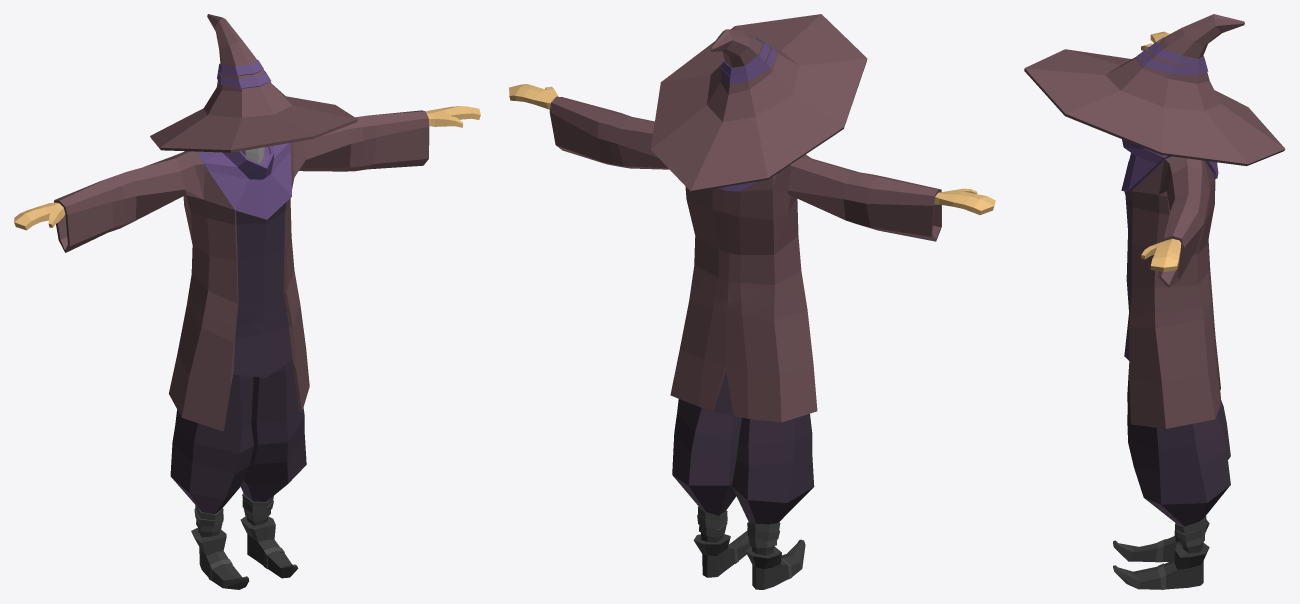
File: Wizard.obj
3 renders of one model, left to right at view 1: azimuth 30°, elevation 25°; view 2: azimuth 150°, elevation 25°; view 3: azimuth 270°, elevation 25°, orthographic. The views are drawn at different scales.
Parts seen in each view (by area): view 1: obj1; view 2: obj1; view 3: obj1.
Part boxes in pixels (left/top/right/bottom): obj1: left=14, top=14, right=480, bottom=589; obj1: left=509, top=14, right=995, bottom=589; obj1: left=1024, top=14, right=1285, bottom=589.
Size of the model in its own units: 1.77 by 1.95 by 0.828.
